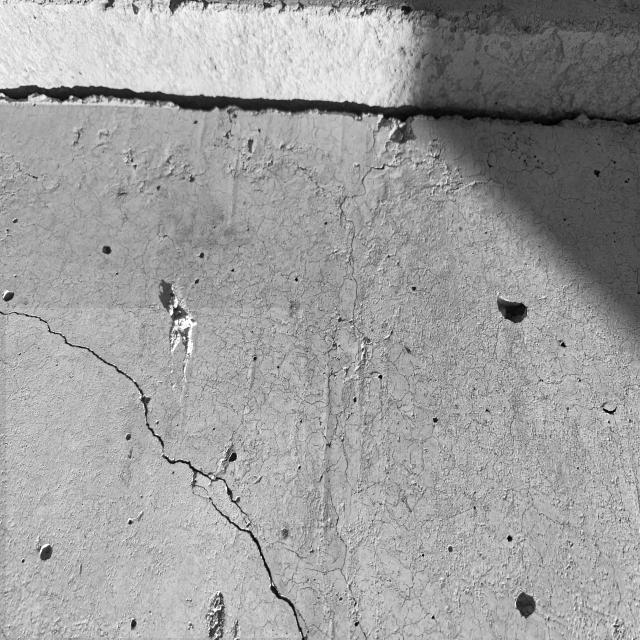diagonal crack: (6, 308, 304, 637)
horizontal crack: (0, 62, 640, 180)
